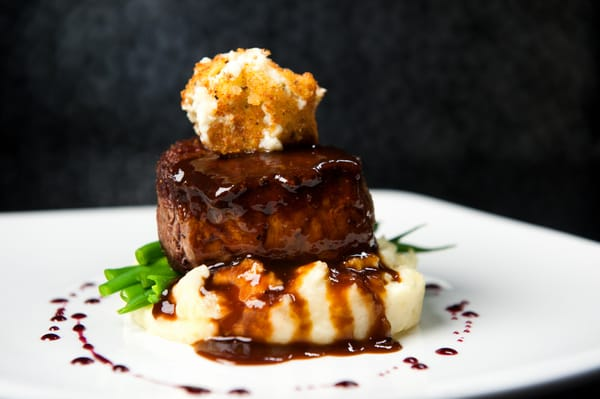soup: (102, 43, 427, 348)
